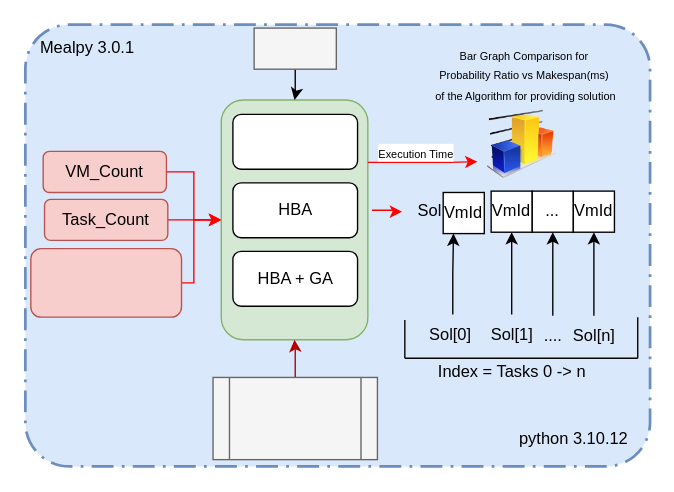
Some shapes in this 674 by 492 pixel diagram are drawn without their labels. The shapes that lost their labels are listed below. From the top down, each one's box as (x1, y1, x2, y2) in pixels, then its label:
(253, 27, 336, 69): mealpy library
(232, 113, 358, 169): ALO
(29, 247, 182, 317): Problem_Objective / Objective_function
(212, 376, 377, 460): Hyperparameter variation
